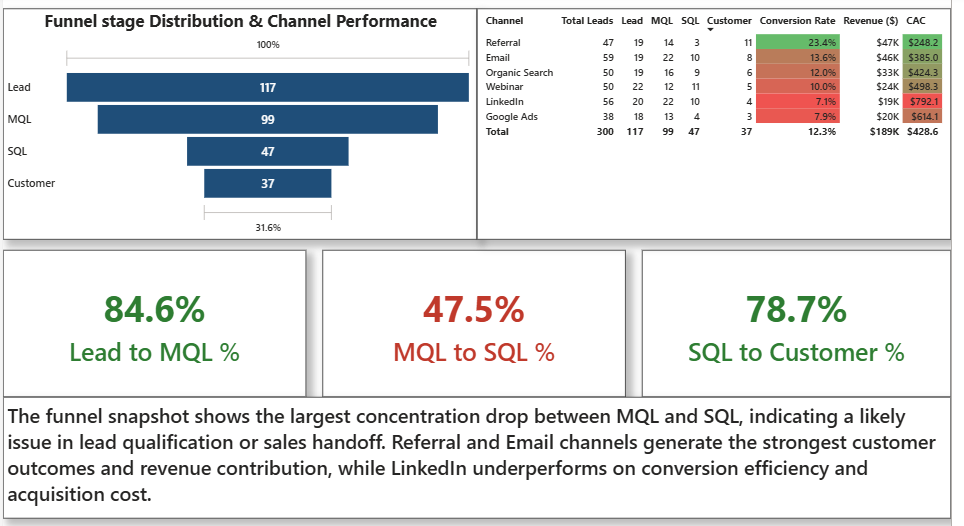

What the dashboard file says about the page in this screenshot:
{"tool":"powerbi","page":{"name":"Page 2","canvas":[1280,720],"ordinal":1},"visuals":[{"type":"funnel","title":"Funnel stage Distribution & Channel Performance","fields":{"Category":["marketing_data.Stage"],"Y":["marketing_data.Total Leads"]},"box":[0,18.2,640,311.9],"z":0},{"type":"card","fields":{"Values":["Calendar.Lead to MQL %"]},"box":[0,344.3,409.1,198.5],"z":1000},{"type":"card","fields":{"Values":["Calendar.MQL to SQL %"]},"box":[431.4,344.3,409.1,198.5],"z":2000},{"type":"card","fields":{"Values":["Calendar.SQL to Customer %"]},"box":[862.8,344.3,417.2,198.5],"z":3000},{"type":"textbox","box":[0,542.8,1280,164.1],"z":4001},{"type":"tableEx","fields":{"Values":["marketing_data.Channel","marketing_data.Total Leads","Calendar.Lead","Calendar.MQL","Calendar.SQL","Calendar.Customer","marketing_data.Conversion Rate","marketing_data.Revenue CH","marketing_data.CAC"]},"box":[640,18.2,640,311.9],"z":4002}]}

Visuals, with their boxes on the page's 1280x720 design canvas (x1, y1, x2, y2). These are canvas units, not pixel positions in the 964x526 screenshot, which may show the page scaled, cropped or inside an application window:
"Funnel stage Distribution & Channel Performance" funnel: select_region(0, 18, 640, 330)
card - Calendar.Lead to MQL %: select_region(0, 344, 409, 543)
card - Calendar.MQL to SQL %: select_region(431, 344, 840, 543)
card - Calendar.SQL to Customer %: select_region(863, 344, 1280, 543)
textbox: select_region(0, 543, 1280, 707)
tableEx - marketing_data.Channel x marketing_data.Total Leads: select_region(640, 18, 1280, 330)
